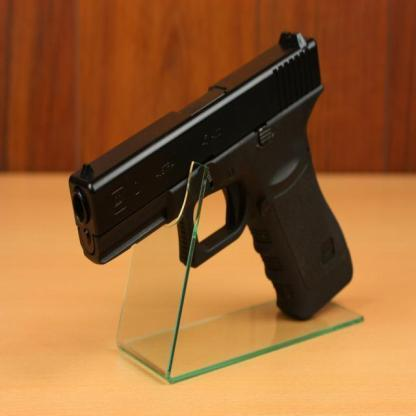weapon: (69, 29, 355, 322)
